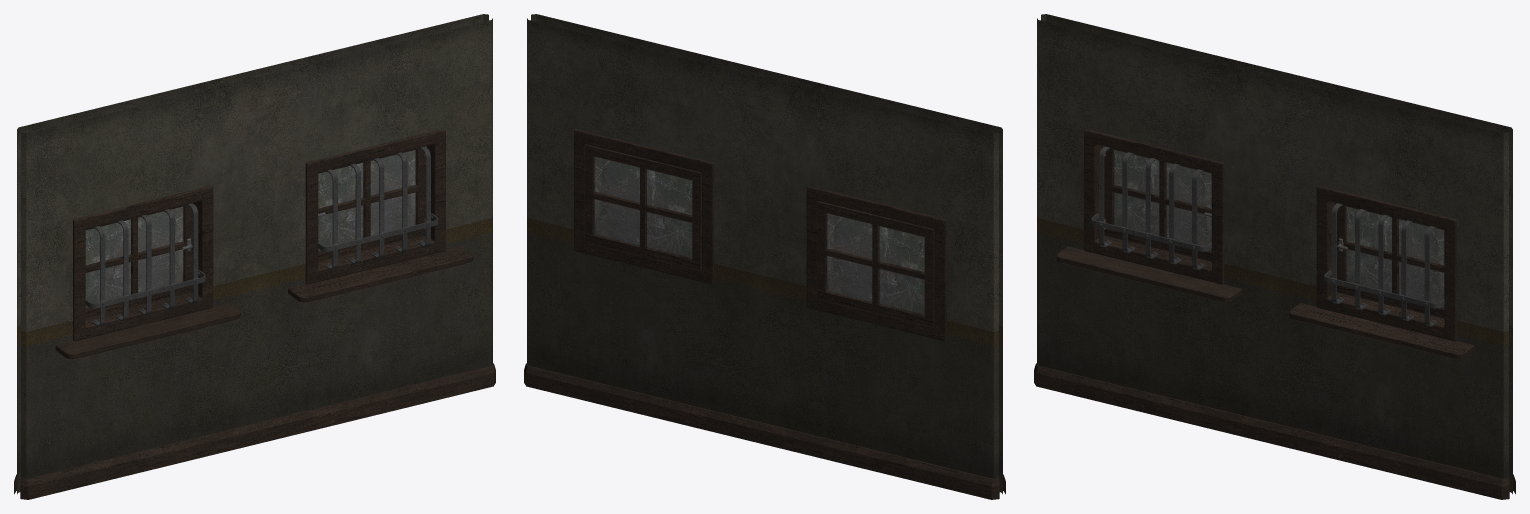
Rendered from window_1_double.glb.
3 renders of one model, left to right at view 1: azimuth 30°, elevation 25°; view 2: azimuth 150°, elevation 25°; view 3: azimuth 330°, elevation 25°, orthographic.
Visible parts, largest first — view 1: window_1_double, metal_bars_double; view 2: window_1_double; view 3: window_1_double, metal_bars_double.
Boxes of the visible parts, x1,y1,x2,y2 form: window_1_double: [14, 14, 495, 499]; metal_bars_double: [85, 146, 438, 326]; window_1_double: [524, 14, 1005, 499]; window_1_double: [1034, 14, 1515, 499]; metal_bars_double: [1091, 146, 1444, 326].
Size of the model in its own units: 4.09 by 3 by 0.35.
Materials: 5 (5 with a texture image).
